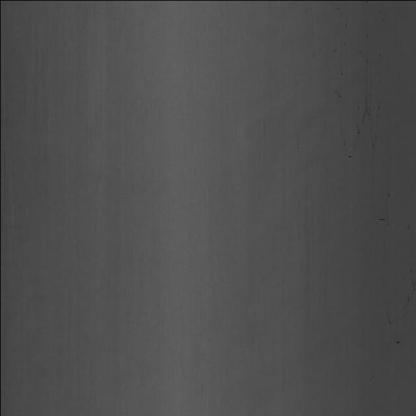inclusion: (391, 253, 415, 359), (354, 71, 380, 147), (372, 211, 392, 225), (335, 90, 344, 106), (344, 152, 352, 165), (338, 67, 344, 81)
